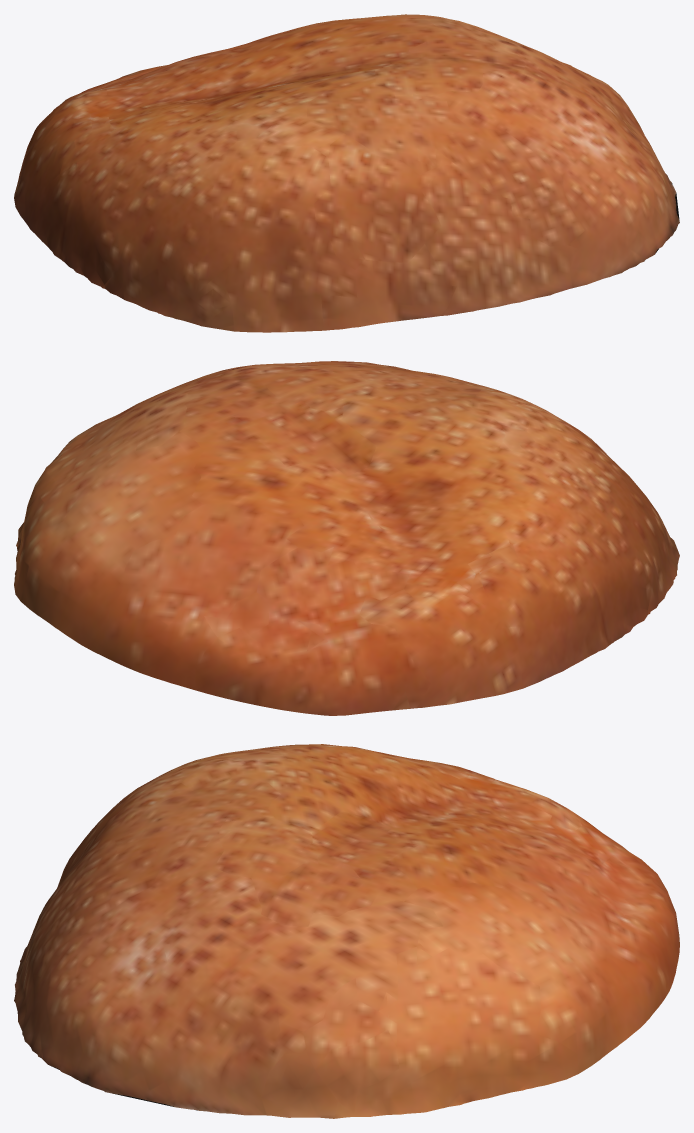
File: topBun.obj
3 views of the same model, one above another, from view 1: azimuth 30°, elevation 25°; view 2: azimuth 150°, elevation 25°; view 3: azimuth 270°, elevation 25° (orthographic). The views are drawn at different scales.
Parts seen in each view (by area): view 1: model.002; view 2: model.002; view 3: model.002.
Part boxes in pixels (x1=…): model.002: x1=14, y1=14, x2=679, y2=332; model.002: x1=14, y1=361, x2=679, y2=715; model.002: x1=14, y1=744, x2=679, y2=1118.
Bounding box in the file's own units: 0.6255 × 0.1508 × 0.5967.
